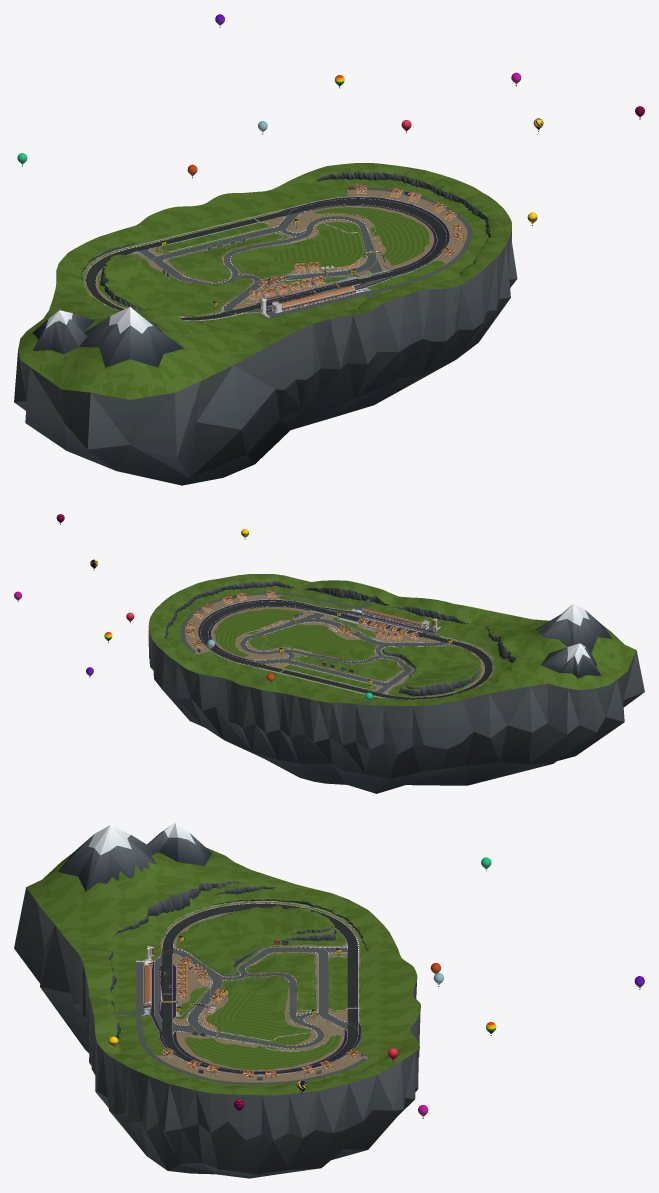
File: track.glb
3 renders of one model, top to bottom at view 1: azimuth 30°, elevation 25°; view 2: azimuth 150°, elevation 25°; view 3: azimuth 270°, elevation 25°, orthographic. The views are drawn at different scales.
Visible parts, largest first — view 1: rock, grass_1, road, gravel, garages, grass_2, baloon, barriers; view 2: rock, grass_1, road, gravel, garages, grass_2, barriers, baloon; view 3: grass_1, rock, road, gravel, grass_2, garages, baloon, white_line, barriers.
Part boxes in pixels (left/top/right/bottom): rock: left=14, top=171, right=517, bottom=485; grass_1: left=18, top=163, right=511, bottom=399; road: left=85, top=187, right=472, bottom=320; gravel: left=84, top=189, right=467, bottom=320; garages: left=83, top=184, right=463, bottom=321; grass_2: left=269, top=207, right=429, bottom=274; baloon: left=17, top=14, right=644, bottom=225; barriers: left=98, top=205, right=434, bottom=316; rock: left=148, top=580, right=644, bottom=793; grass_1: left=148, top=574, right=636, bottom=705; road: left=181, top=593, right=492, bottom=699; gravel: left=185, top=594, right=494, bottom=698; garages: left=186, top=590, right=494, bottom=699; grass_2: left=214, top=609, right=363, bottom=657; barriers: left=211, top=606, right=482, bottom=696; baloon: left=14, top=514, right=372, bottom=703; grass_1: left=26, top=848, right=420, bottom=1095; rock: left=14, top=822, right=420, bottom=1178; road: left=115, top=903, right=367, bottom=1084; gravel: left=154, top=902, right=367, bottom=1082; grass_2: left=184, top=990, right=341, bottom=1069; garages: left=136, top=900, right=361, bottom=1080; baloon: left=108, top=857, right=644, bottom=1118; white_line: left=154, top=903, right=358, bottom=1071; barriers: left=176, top=914, right=346, bottom=1071.
Bounding box in the file's own units: 1138 × 397 × 902.
Materials: 14 (11 with a texture image).
